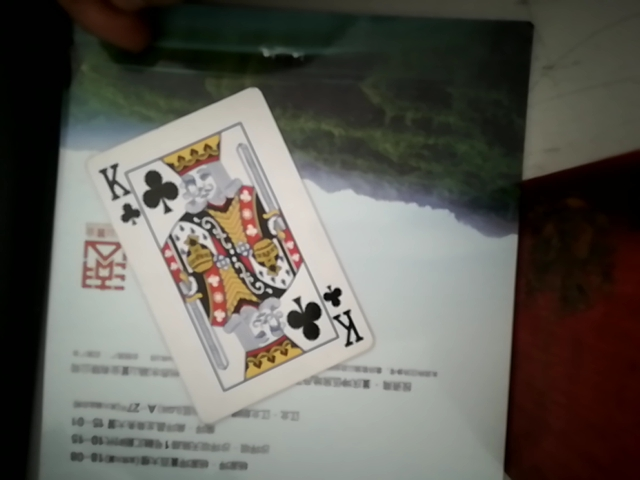mh k: (62, 86, 384, 410)
